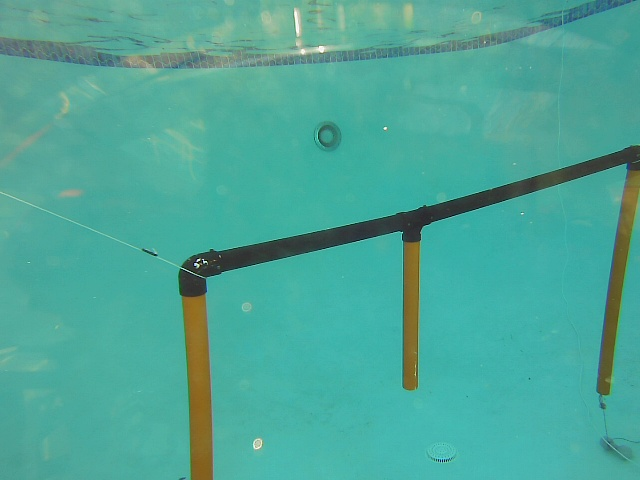Gate: (594, 168, 640, 398), (177, 291, 220, 480), (393, 232, 426, 395)
